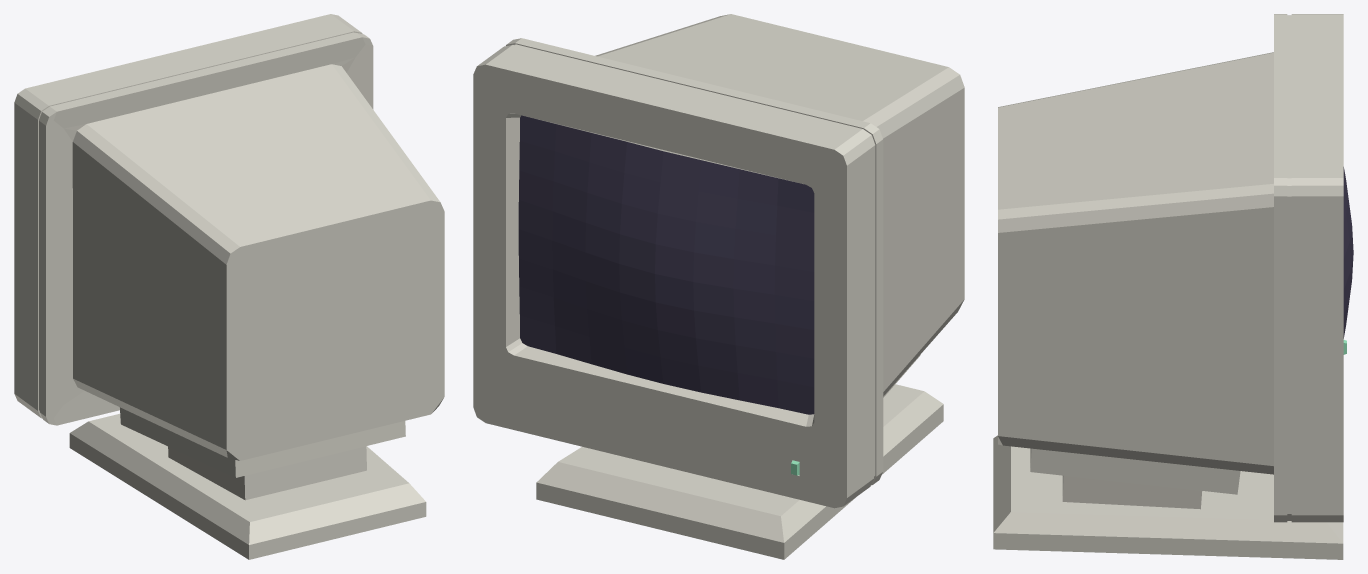
File: CRT_Monitor.fbx
The picture shows the model from 3 angles, left to right: view 1: azimuth 30°, elevation 25°; view 2: azimuth 150°, elevation 25°; view 3: azimuth 270°, elevation 25°; orthographic projection. The views are drawn at different scales.
Visible parts, largest first — view 1: Monitor; view 2: Monitor, Screen; view 3: Monitor, Screen.
Part boxes in pixels (left/top/right/bottom): Monitor: left=14, top=14, right=444, bottom=559; Monitor: left=473, top=14, right=964, bottom=559; Screen: left=518, top=115, right=814, bottom=414; Monitor: left=993, top=14, right=1346, bottom=559; Screen: left=1343, top=167, right=1353, bottom=338.
Bounding box in the file's own units: 120 × 130 × 104.
